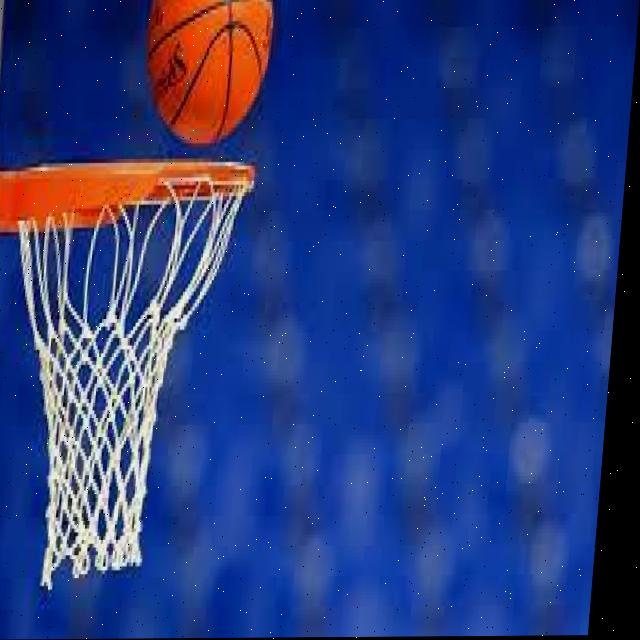basketball: (137, 1, 272, 147)
hoop: (0, 162, 258, 579)
